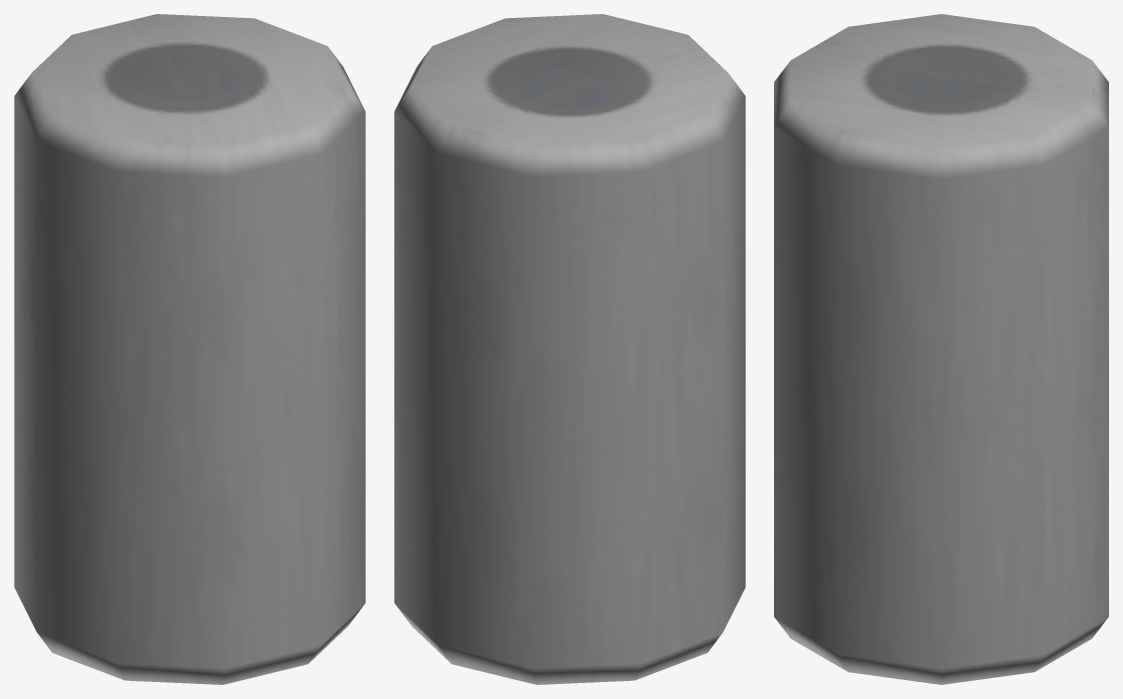
The model's file is Cleaners_10.fbx.
3 renders of one model, left to right at view 1: azimuth 30°, elevation 25°; view 2: azimuth 150°, elevation 25°; view 3: azimuth 270°, elevation 25°, orthographic.
Parts seen in each view (by area): view 1: Cleaners_10; view 2: Cleaners_10; view 3: Cleaners_10.
Part boxes in pixels (x1,y1,x2,y2): Cleaners_10: [14, 14, 365, 684]; Cleaners_10: [394, 14, 745, 684]; Cleaners_10: [774, 14, 1108, 684].
Bounding box in the file's own units: 11.55 × 19.44 × 10.98.
